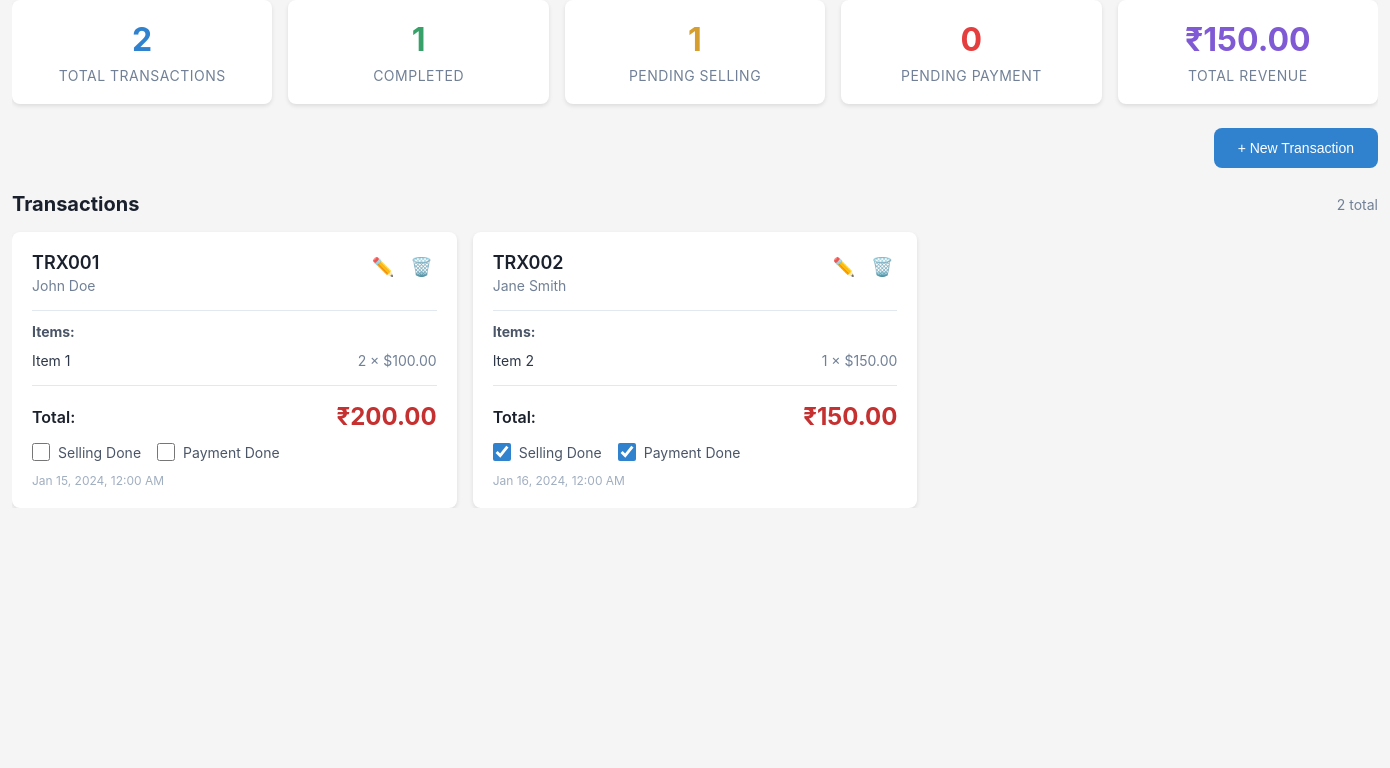
TransactionManagement Component › should display error when delete fails
This screenshot has width=1390, height=768.
Step 1. Click the button titled "Delete" in the row of "TRX001" → (421, 267), box [406, 252, 437, 282]
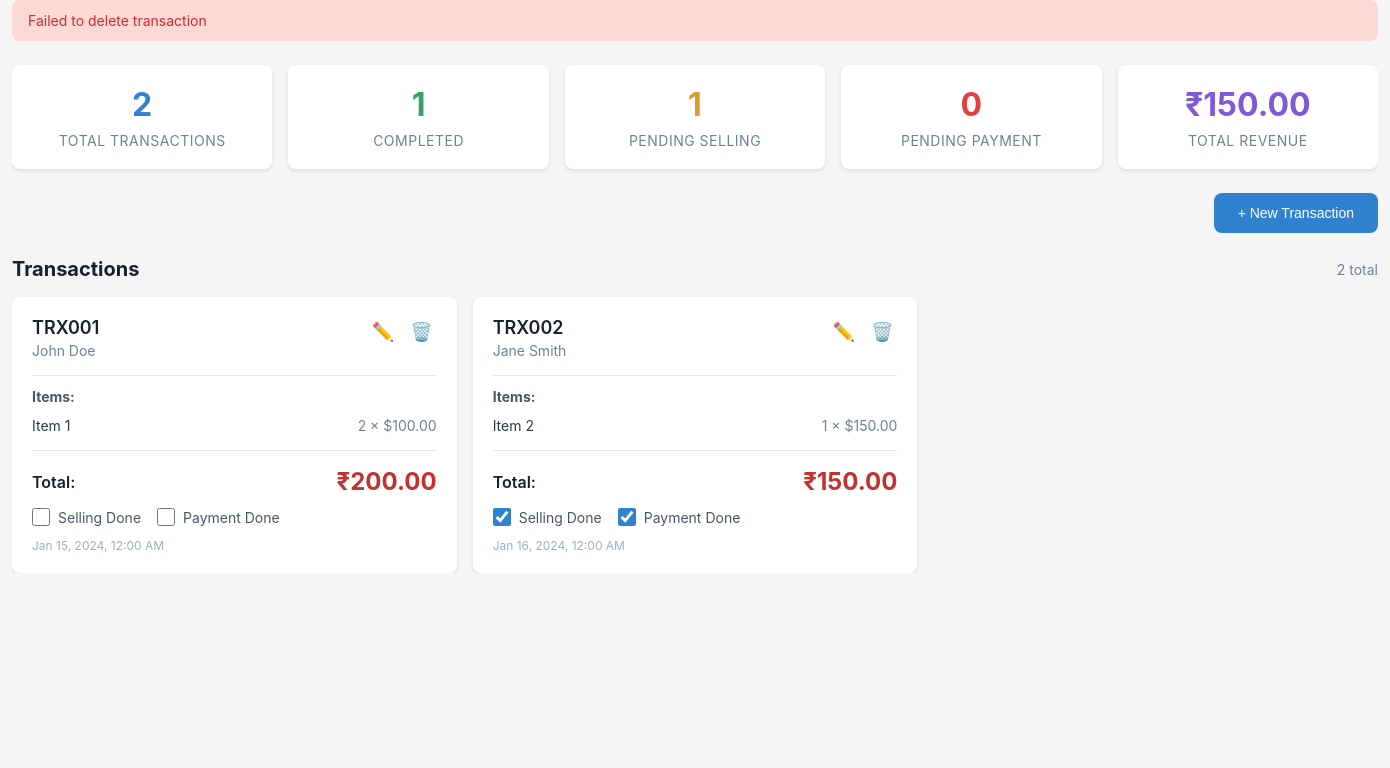
expect the text "Failed to delete transaction" is shown: met, box [12, 0, 1378, 41]
